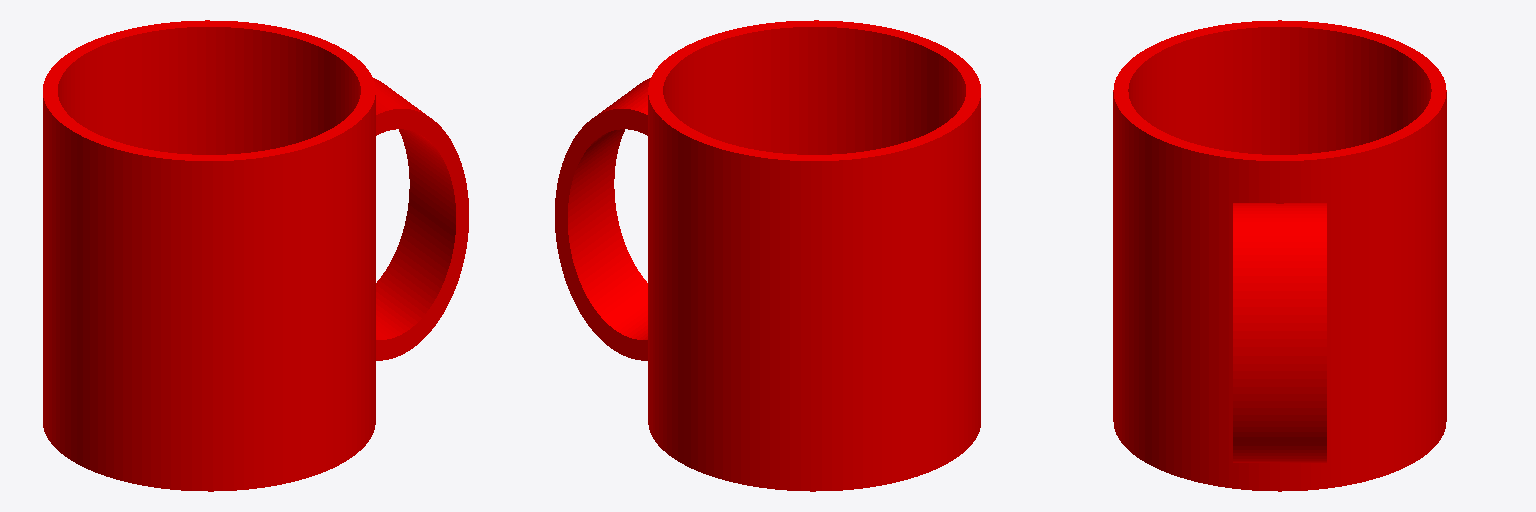
The robot description file, URDF, robot "mug.urdf":
<?xml version="1.0" ?>
<robot name="mug.urdf">
  <link name="baseLink">
    <inertial>
      <origin rpy="0 0 0" xyz="0 0 0"/>
       <mass value=".1"/>
       <inertia ixx="1" ixy="0" ixz="0" iyy="1" iyz="0" izz="1"/>
    </inertial>
    <contact>
      <lateral_friction value="1.0"/>
      <inertia_scaling value="3.0"/>
    </contact>
    <visual>
      <origin rpy="0 0 0" xyz="0 0 0"/>
      <geometry>
        <mesh filename="15.stl" scale="1 1 1" />
      </geometry>
      <material name="red">
        <color rgba="1 0 0 1"/>
      </material>
    </visual>
    <collision>
      <origin rpy="0 0 0" xyz="0 0 0"/>
      <geometry>
        <mesh filename="15_convex.obj" scale="1 1 1" />
      </geometry>
    </collision>
  </link>
</robot>

--- What the picture shows (computed from the rendered views, not written in the file) ---
The picture shows the robot from 3 angles, left to right: view 1: azimuth 30°, elevation 25°; view 2: azimuth 150°, elevation 25°; view 3: azimuth 270°, elevation 25°; orthographic projection.
Model mug.urdf with 1 links and 0 joints (none), rooted at baseLink, posed all joints at 0.
Visible links, largest first — view 1: baseLink; view 2: baseLink; view 3: baseLink.
Boxes of the visible links, x1,y1,x2,y2 form: baseLink: (43,20,468,491); baseLink: (555,20,980,491); baseLink: (1113,20,1446,491).
Size in the robot's own frame: 0.1468 by 0.1112 by 0.1216 metres.
1 mesh visuals loaded from 1 distinct referenced files (1 binary STL).